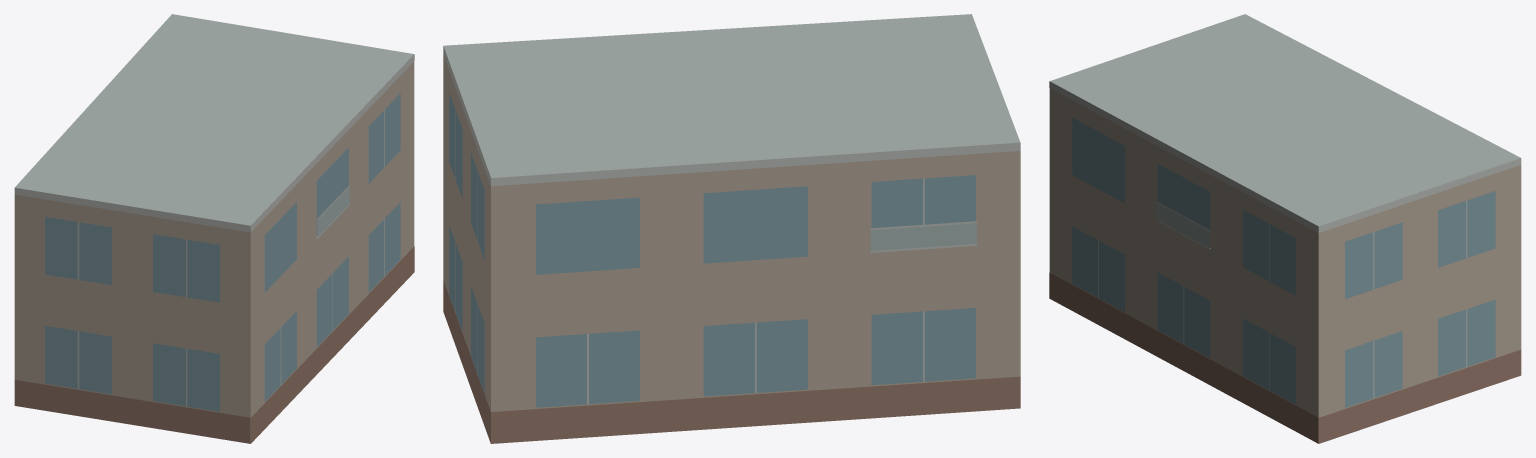
The model's file is survey-upis-32738459.glb.
3 views of the same model, side by side, from view 1: azimuth 30°, elevation 25°; view 2: azimuth 150°, elevation 25°; view 3: azimuth 270°, elevation 25° (orthographic). The views are drawn at different scales.
Visible parts, largest first — view 1: survey-upis-32738459.tmp; view 2: survey-upis-32738459.tmp; view 3: survey-upis-32738459.tmp.
Boxes of the visible parts, bbox=[...] form: survey-upis-32738459.tmp: bbox=[14, 14, 414, 443]; survey-upis-32738459.tmp: bbox=[443, 14, 1020, 443]; survey-upis-32738459.tmp: bbox=[1049, 14, 1521, 443].
Bounding box in the file's own units: 16.56 × 7.9 × 15.54.
